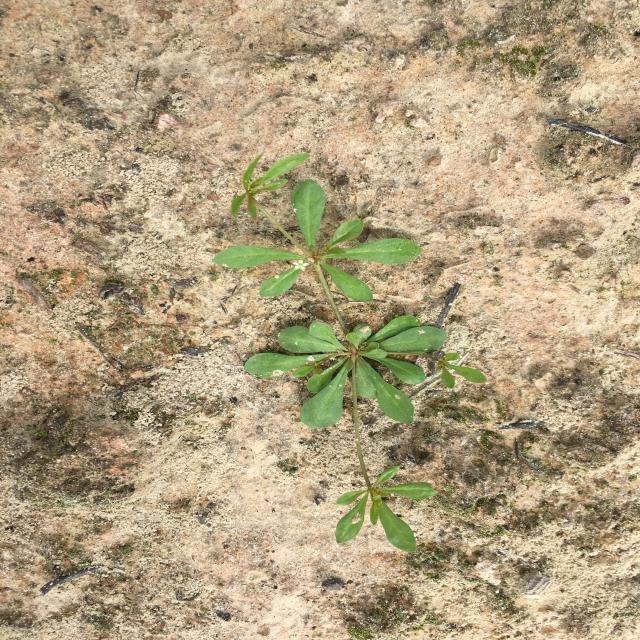Carpetweed: (212, 152, 488, 552)
